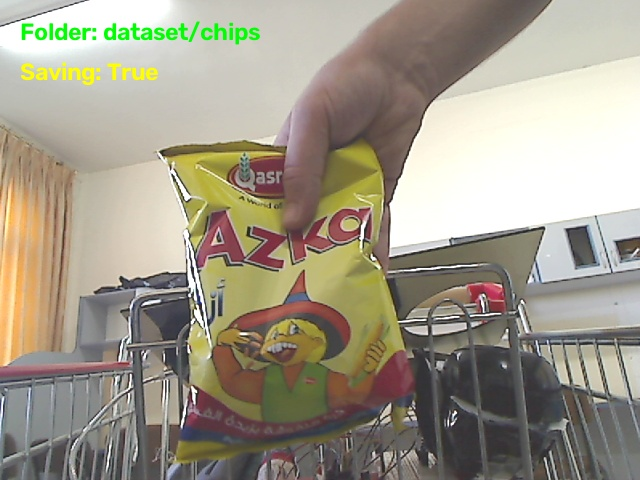chips: (160, 141, 412, 461)
